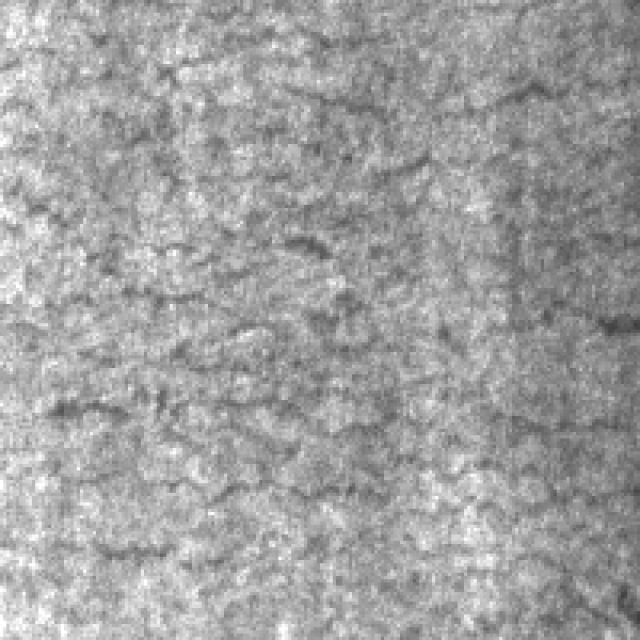crazing: (3, 3, 614, 618)
